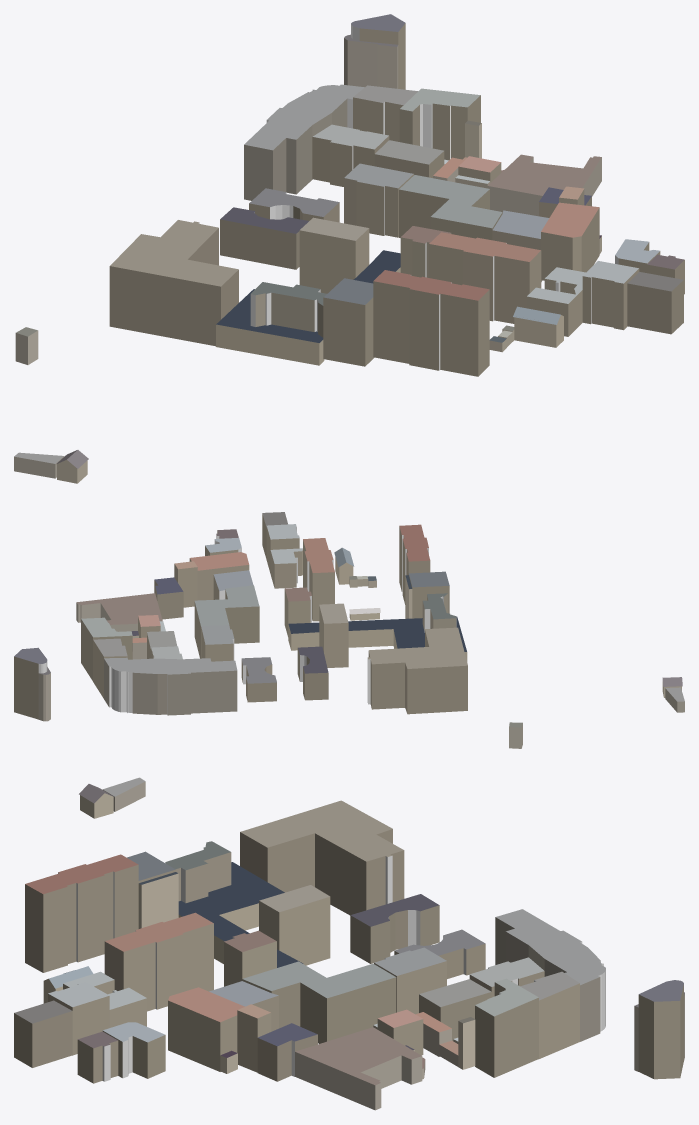
3 renders of one model, top to bottom at view 1: azimuth 30°, elevation 25°; view 2: azimuth 150°, elevation 25°; view 3: azimuth 270°, elevation 25°, orthographic. The views are drawn at different scales.
Parts seen in each view (by area): view 1: tuile; view 2: tuile; view 3: tuile.
Boxes of the visible parts, x1=… form: tuile: x1=14, y1=14, x2=684, y2=483; tuile: x1=14, y1=512, x2=684, y2=748; tuile: x1=14, y1=777, x2=684, y2=1110.
Size of the model in its own units: 269 by 40.8 by 215.
